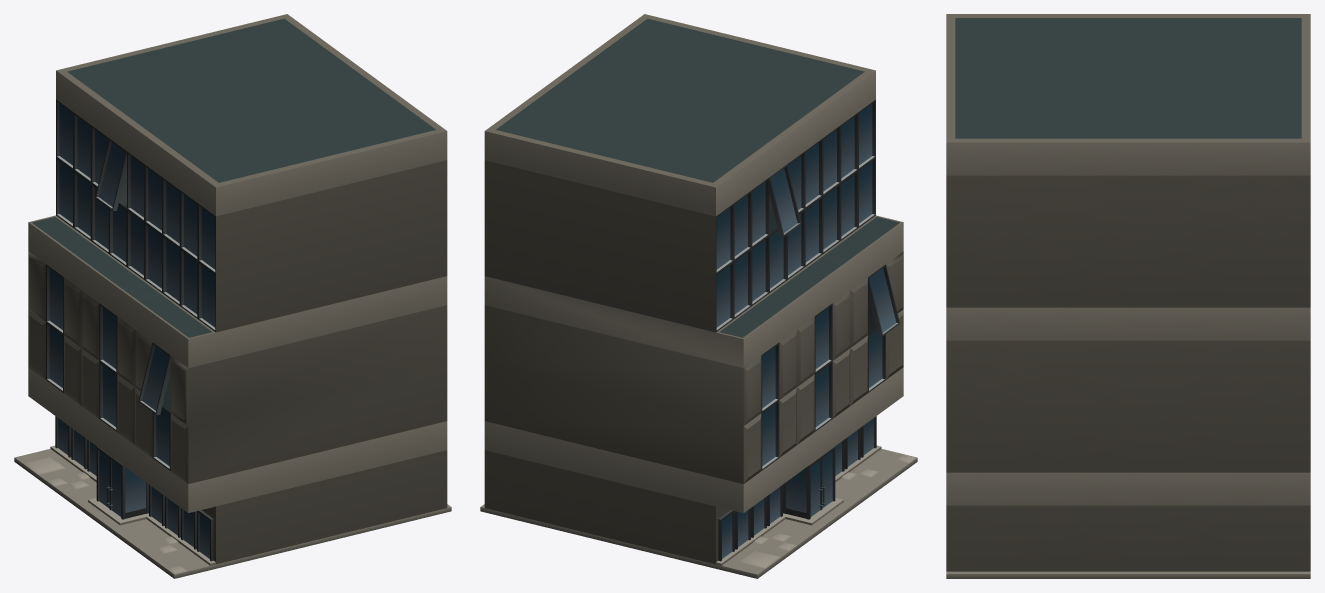
The model's file is Press_Tower_1B.fbx.
The picture shows the model from 3 angles, left to right: view 1: azimuth 30°, elevation 25°; view 2: azimuth 150°, elevation 25°; view 3: azimuth 270°, elevation 25°; orthographic projection. The views are drawn at different scales.
Visible parts, largest first — view 1: Press_Tower_1B; view 2: Press_Tower_1B; view 3: Press_Tower_1B.
Part boxes in pixels (bbox=[...]): Press_Tower_1B: bbox=[14, 14, 451, 578]; Press_Tower_1B: bbox=[480, 14, 917, 578]; Press_Tower_1B: bbox=[946, 14, 1310, 578].
Size of the model in its own units: 20.04 by 26.3 by 20.
